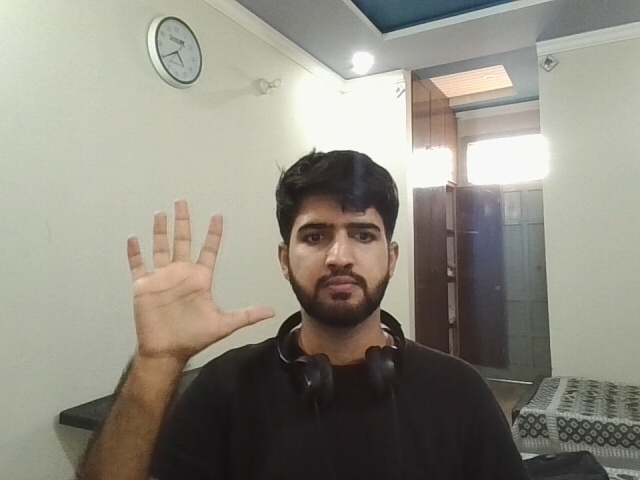Hello: (109, 182, 278, 361)
